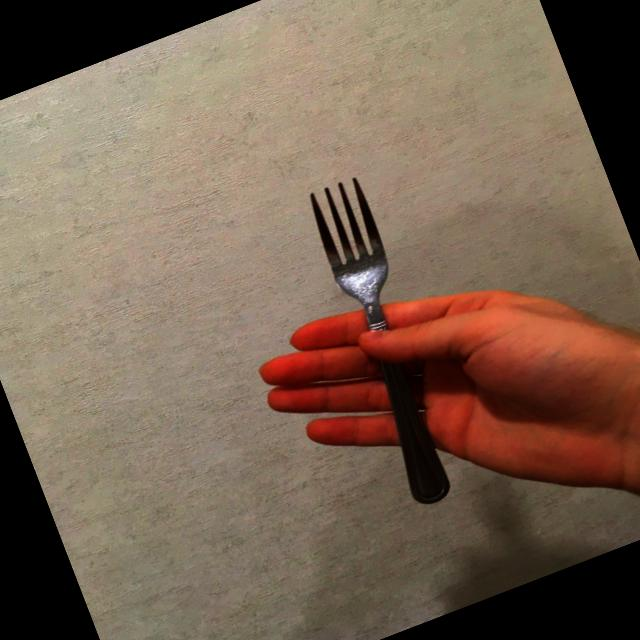fork: (296, 172, 479, 510)
